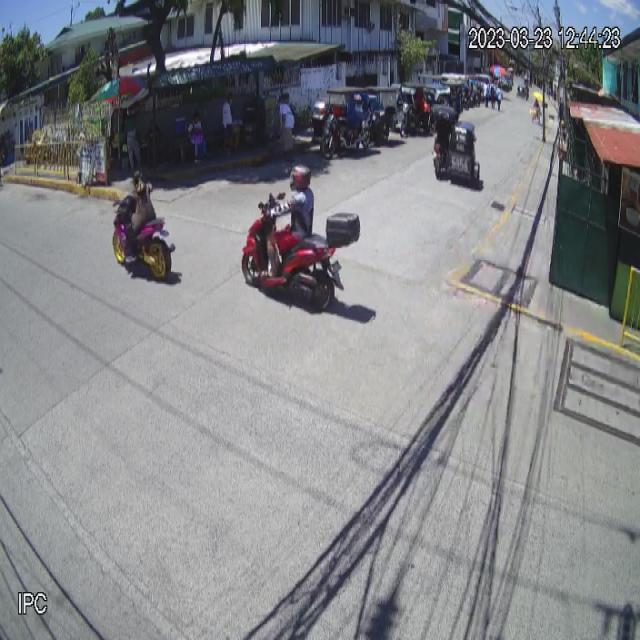Motorcycle: (242, 191, 361, 313), (112, 192, 176, 282)
Tricycle: (431, 102, 480, 188)
